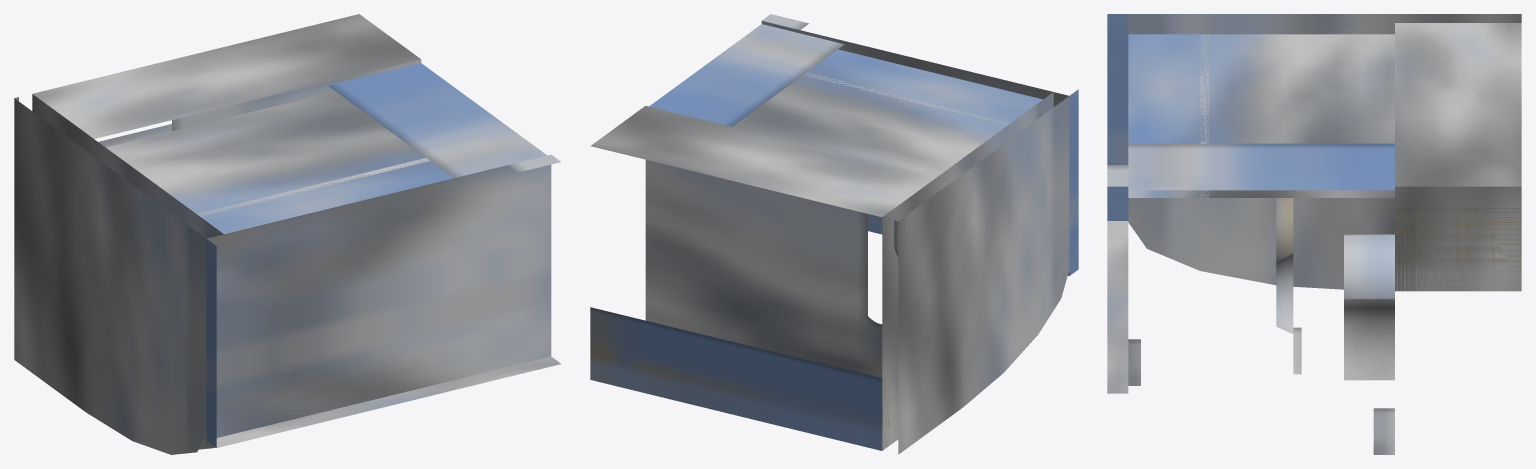
File: section-2.obj
3 views of the same model, side by side, from view 1: azimuth 30°, elevation 25°; view 2: azimuth 150°, elevation 25°; view 3: azimuth 270°, elevation 25° (orthographic). The views are drawn at different scales.
Bounding box in the file's own units: 0.965 × 0.7 × 0.98.
